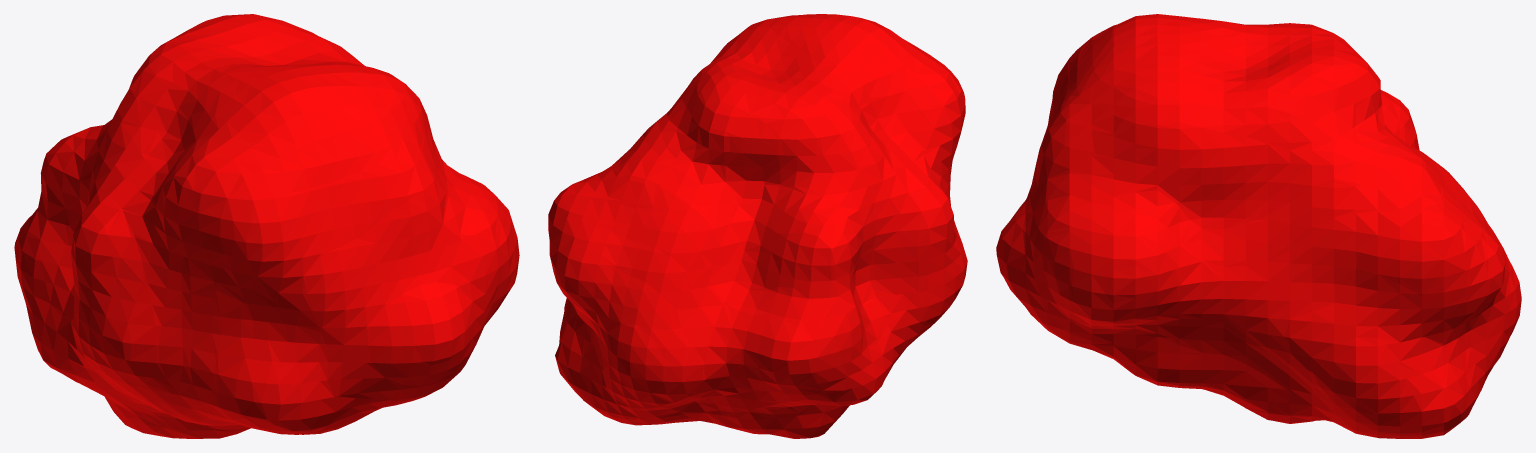
The model's file is yciO_coarse.dae.
The picture shows the model from 3 angles, left to right: view 1: azimuth 30°, elevation 25°; view 2: azimuth 150°, elevation 25°; view 3: azimuth 270°, elevation 25°; orthographic projection. The views are drawn at different scales.
Visible parts, largest first — view 1: yciO; view 2: yciO; view 3: yciO.
Boxes of the visible parts, box(x1,y1,x2,y2) form: yciO: box(14, 14, 519, 438); yciO: box(548, 14, 967, 438); yciO: box(996, 14, 1521, 438).
Size of the model in its own units: 40.28 by 41.75 by 52.68.
